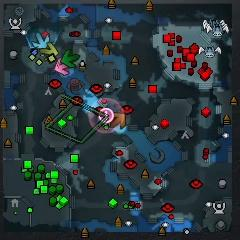Other: (98, 107, 114, 123)
x1: (55, 57, 69, 76)
x2: (40, 42, 58, 58)
x3: (32, 32, 50, 50)
x4: (61, 50, 80, 68)
x5: (109, 113, 126, 129)
